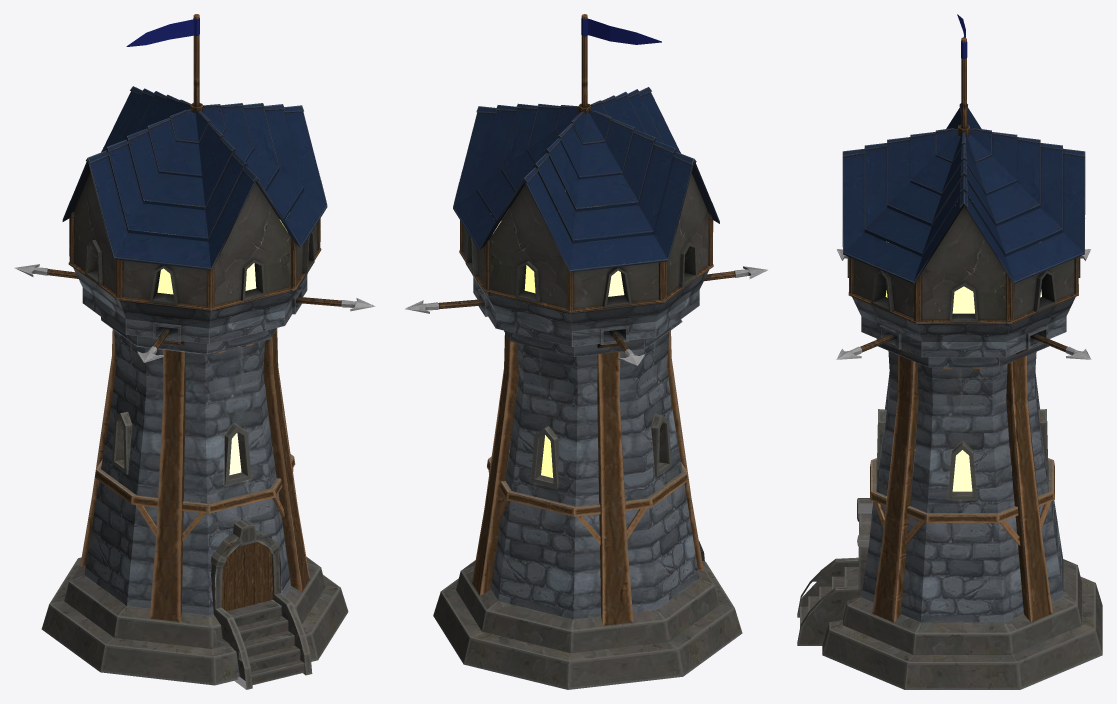
File: BaseTower.gltf
3 views of the same model, side by side, from view 1: azimuth 30°, elevation 25°; view 2: azimuth 150°, elevation 25°; view 3: azimuth 270°, elevation 25° (orthographic). The views are drawn at different scales.
Parts seen in each view (by area): view 1: Object_3; view 2: Object_3; view 3: Object_3.
Boxes of the visible parts, <box> form: Object_3: <box>14,14,375,689</box>; Object_3: <box>405,14,767,689</box>; Object_3: <box>797,14,1102,689</box>.
Bounding box in the file's own units: 81.6 × 190 × 88.69.
5 materials, 4 textured.
